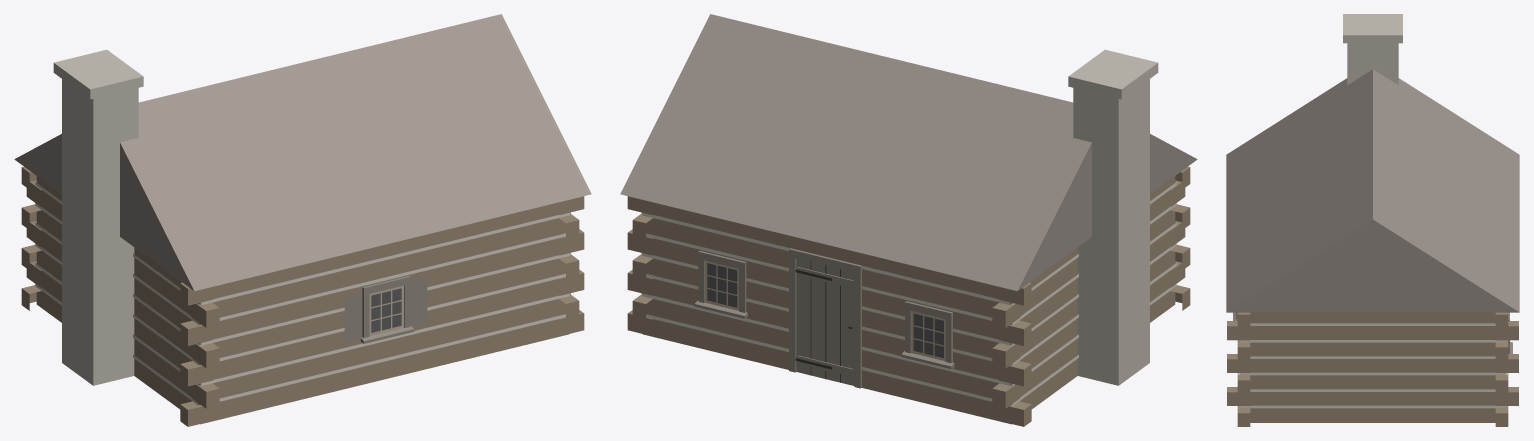
Rendered from robinson_caldwell_cabins__log_1831.glb.
3 renders of one model, left to right at view 1: azimuth 30°, elevation 25°; view 2: azimuth 150°, elevation 25°; view 3: azimuth 270°, elevation 25°, orthographic. The views are drawn at different scales.
Visible parts, largest first — view 1: robinson_caldwell_cabins__log_1831; view 2: robinson_caldwell_cabins__log_1831; view 3: robinson_caldwell_cabins__log_1831.
Boxes of the visible parts, x1,y1,x2,y2 form: robinson_caldwell_cabins__log_1831: [14, 14, 591, 426]; robinson_caldwell_cabins__log_1831: [620, 14, 1197, 426]; robinson_caldwell_cabins__log_1831: [1226, 14, 1519, 426].
Bounding box in the file's own units: 7.57 × 5.05 × 5.5.
